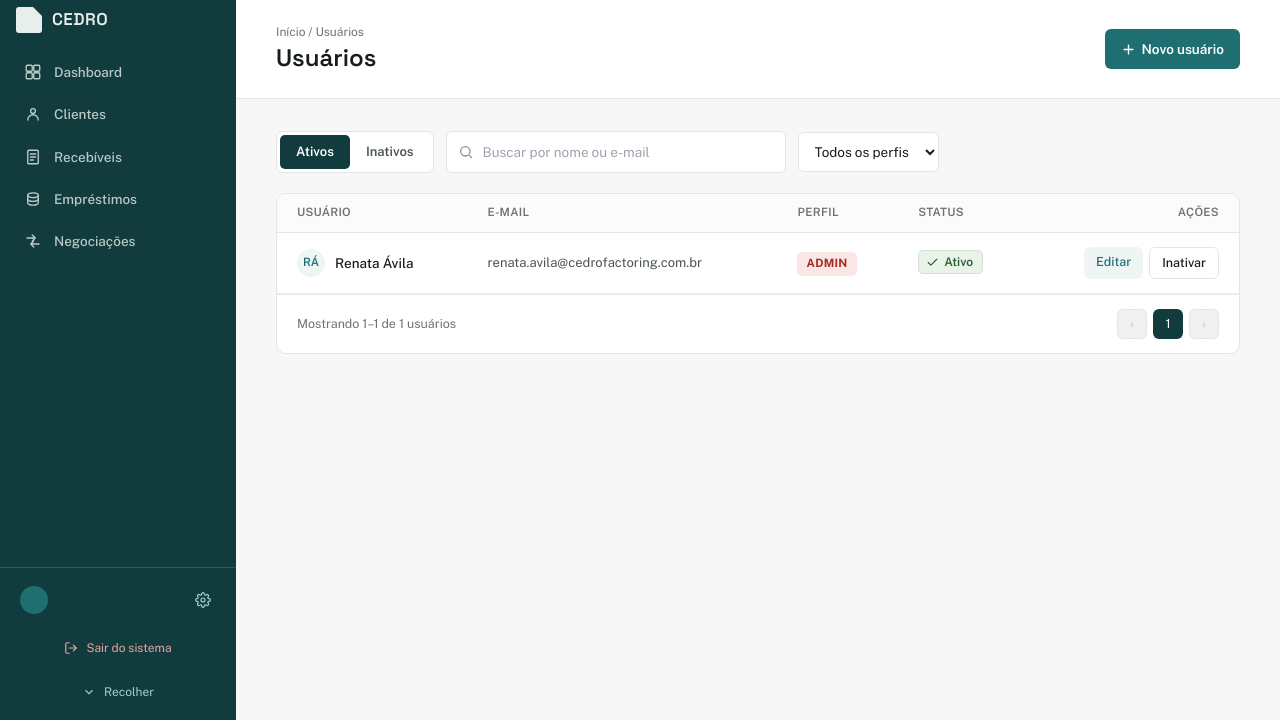
Scenario: UsuariosListPage › filters by search across name and email
Check: the text "Renata Ávila" is shown, box 335,253 -> 414,273
Type "zzz-nao-existe" into the field with placeholder "Buscar por nome ou e-mail" at (616,152), box 446,131 -> 786,173
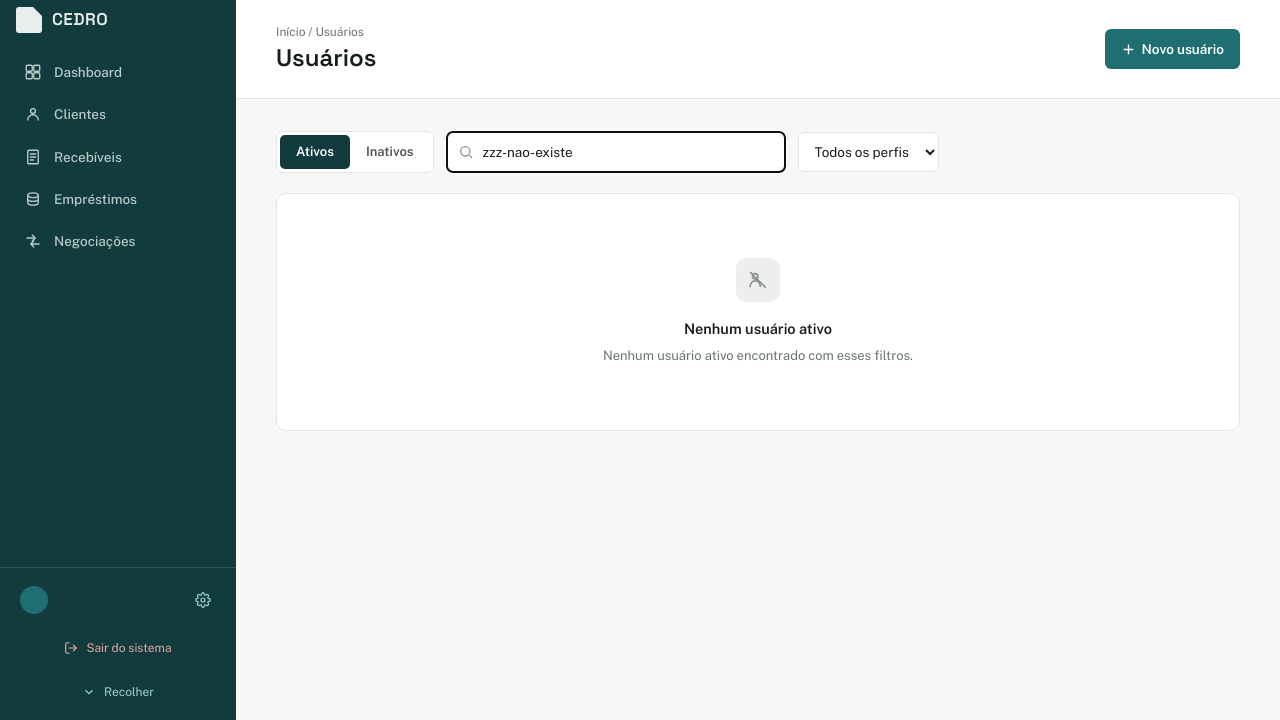
Check: the text "Renata Ávila" is gone
